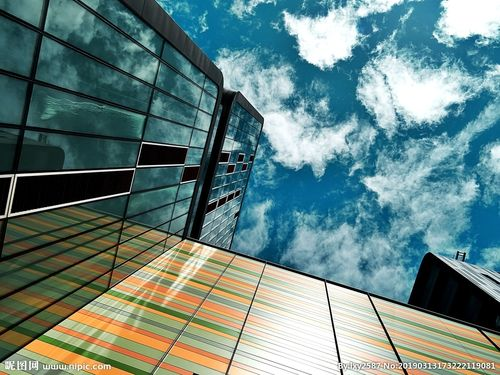buildings: (10, 54, 301, 333), (0, 169, 341, 365)
